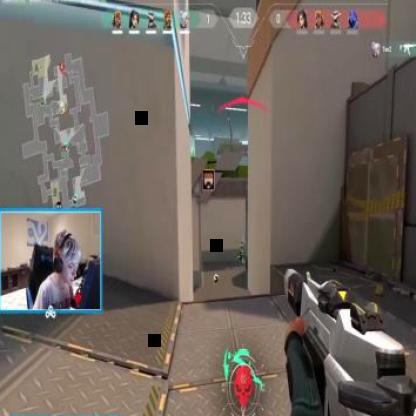enemy: (239, 238, 245, 262)
enemy_head: (240, 239, 242, 243)
